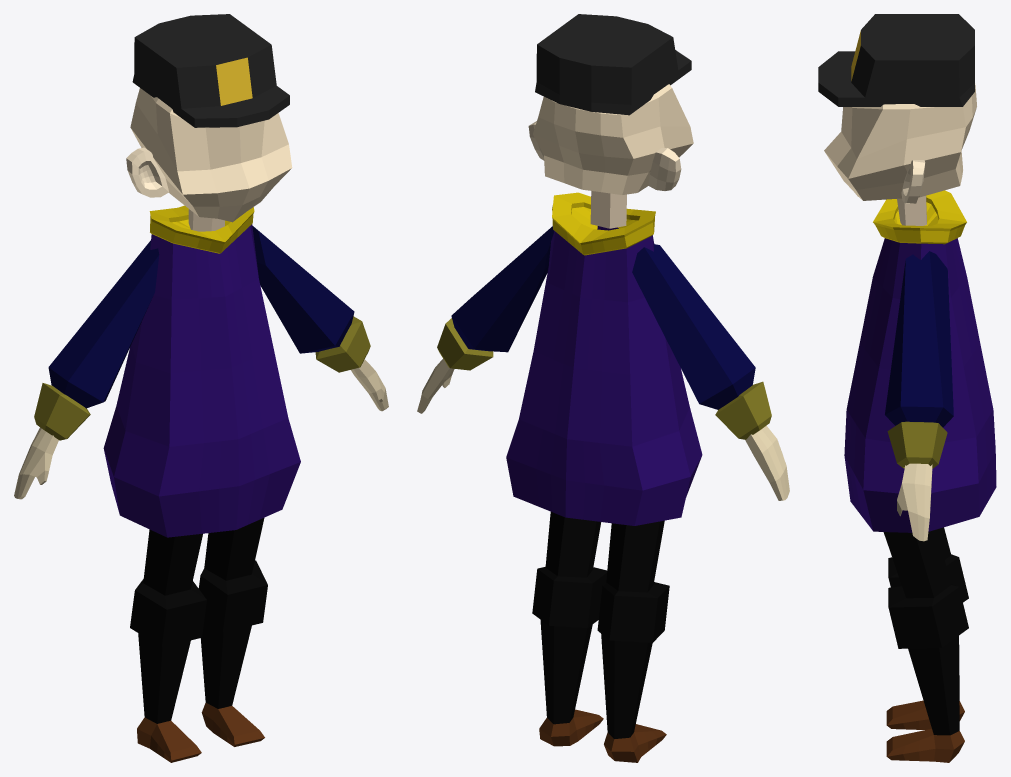
File: secguard.fbx
3 renders of one model, left to right at view 1: azimuth 30°, elevation 25°; view 2: azimuth 150°, elevation 25°; view 3: azimuth 270°, elevation 25°, orthographic.
Parts seen in each view (by area): view 1: Cube, Cylinder, Cylinder.001, Cube.003, Cube.001, Cube.002; view 2: Cube, Cylinder, Cylinder.001, Cube.003, Cube.001, Cube.002, Cylinder.002; view 3: Cube, Cylinder, Cylinder.001, Cube.003, Cube.001, Cube.002, Cylinder.002.
Boxes of the visible parts, x1,y1,x2,y2 form: Cube: (103, 205, 300, 537); Cylinder: (130, 518, 267, 762); Cylinder.001: (14, 225, 388, 499); Cube.003: (132, 14, 289, 127); Cube.001: (130, 88, 292, 222); Cube.002: (126, 147, 168, 197); Cube: (506, 192, 702, 525); Cylinder: (532, 512, 669, 762); Cylinder.001: (417, 226, 789, 500); Cube.003: (535, 14, 691, 115); Cube.001: (533, 84, 693, 194); Cube.002: (528, 121, 681, 190); Cylinder.002: (590, 191, 626, 228); Cube: (844, 190, 996, 532); Cylinder: (883, 527, 968, 762); Cylinder.001: (885, 251, 953, 541); Cube.003: (818, 14, 974, 106); Cube.001: (824, 83, 976, 200); Cube.002: (901, 160, 925, 203); Cylinder.002: (897, 195, 926, 225).
Size of the model in its own units: 208 by 379 by 87.12.
